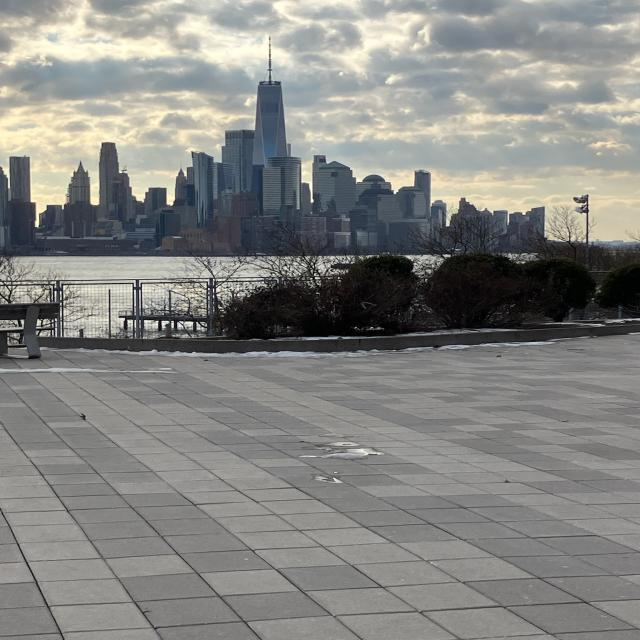WTC: (253, 37, 289, 158)
